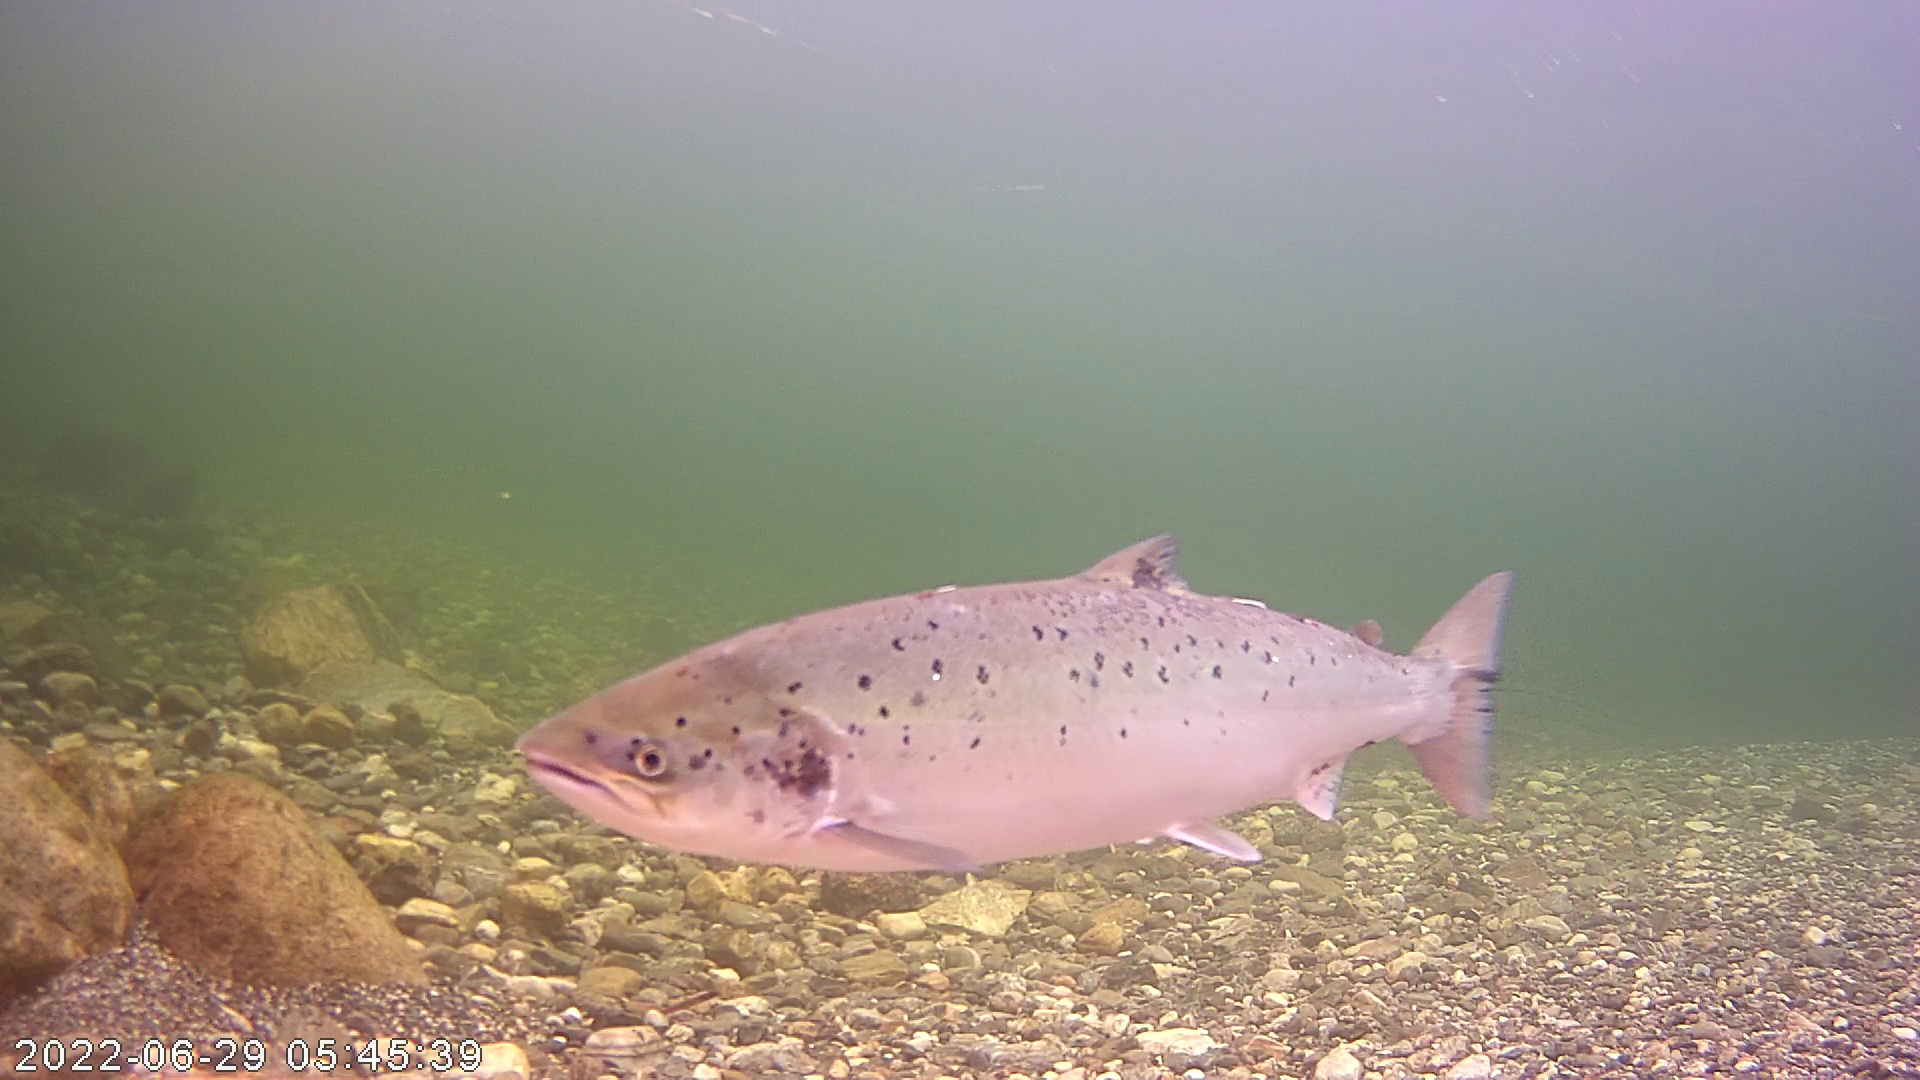salmon: (516, 429, 1524, 897)
